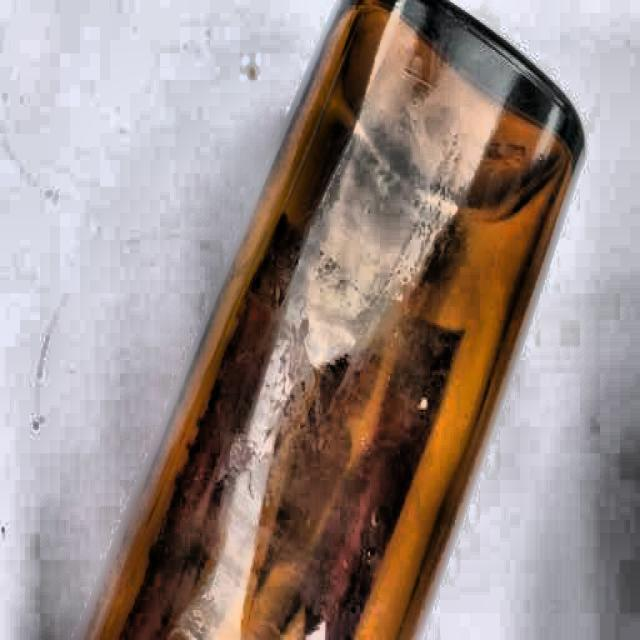glass: (69, 6, 557, 640)
